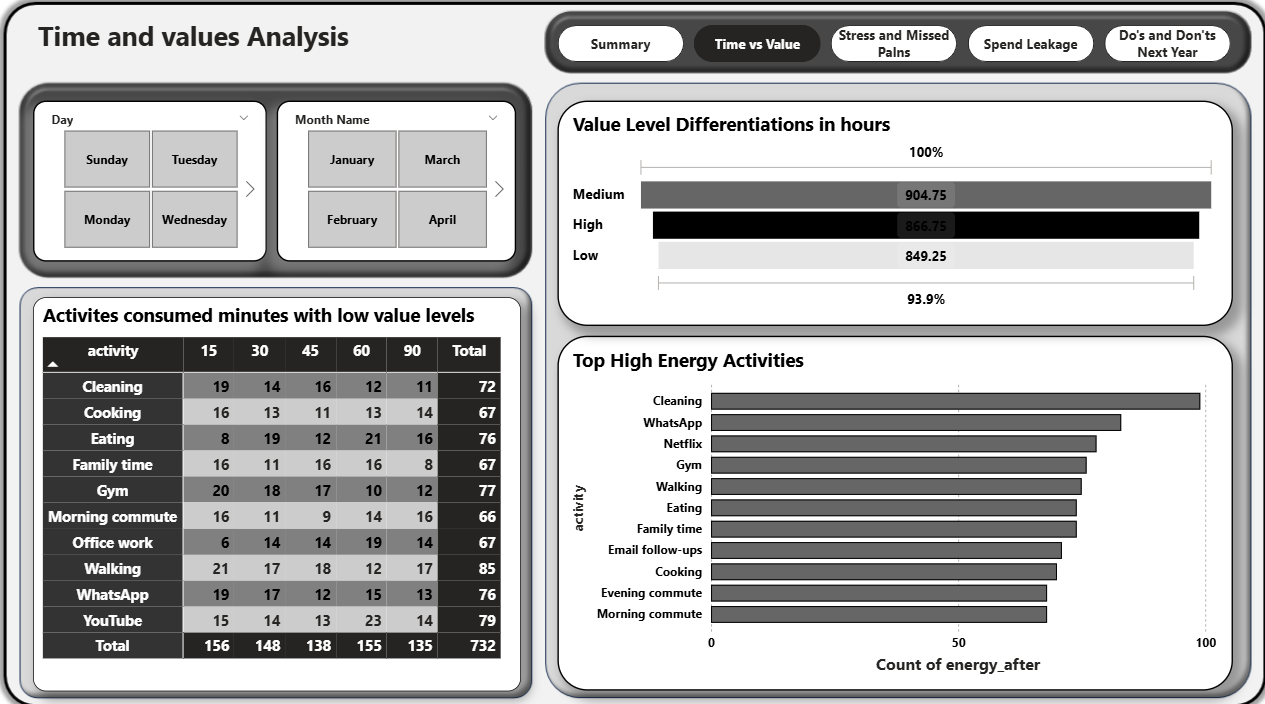

This screenshot's page, from the dashboard's own definition file:
{"tool":"powerbi","page":{"name":"Time vs Value","canvas":[1280,720],"ordinal":1},"visuals":[{"type":"clusteredBarChart","title":"Top High Energy Activities","fields":{"Category":["public activity.activity"],"Y":["CountNonNull(public activity.energy_after)"]},"box":[563.4,339.2,677,356],"z":0},{"type":"funnel","title":"Value Level Differentiations in hours","fields":{"Category":["public activity.value_level"],"Y":["Sum(public activity.hours)"]},"box":[563.4,102.3,677,225.7],"z":1000},{"type":"pivotTable","title":"Activites consumed minutes with low value levels","fields":{"Rows":["public activity.activity"],"Values":["CountNonNull(public activity.value_level)"],"Columns":["public activity.duration_min"]},"box":[36.4,299.9,489.1,395.2],"z":2000},{"type":"slicer","fields":{"Values":["public activity.day"]},"box":[36.4,102.3,234.1,161.2],"z":3000},{"type":"slicer","fields":{"Values":["public activity.month name"]},"box":[281.7,102.3,239.7,161.2],"z":4000},{"type":"pageNavigator","box":[563.4,26.6,677,37.8],"z":5000},{"type":"textbox","box":[36.4,14,527,63.1],"z":6000}]}

Visuals, with their boxes in screenshot pixels (x1, y1, x2, y2), scaled from the page's 1280x720 canvas onto the 1265x704 screenshot:
"Top High Energy Activities" clusteredBarChart: x1=557 y1=332 x2=1226 y2=680
"Value Level Differentiations in hours" funnel: x1=557 y1=100 x2=1226 y2=321
"Activites consumed minutes with low value levels" pivotTable: x1=36 y1=293 x2=519 y2=680
slicer - public activity.day: x1=36 y1=100 x2=267 y2=258
slicer - public activity.month name: x1=278 y1=100 x2=515 y2=258
pageNavigator: x1=557 y1=26 x2=1226 y2=63
textbox: x1=36 y1=14 x2=557 y2=75
